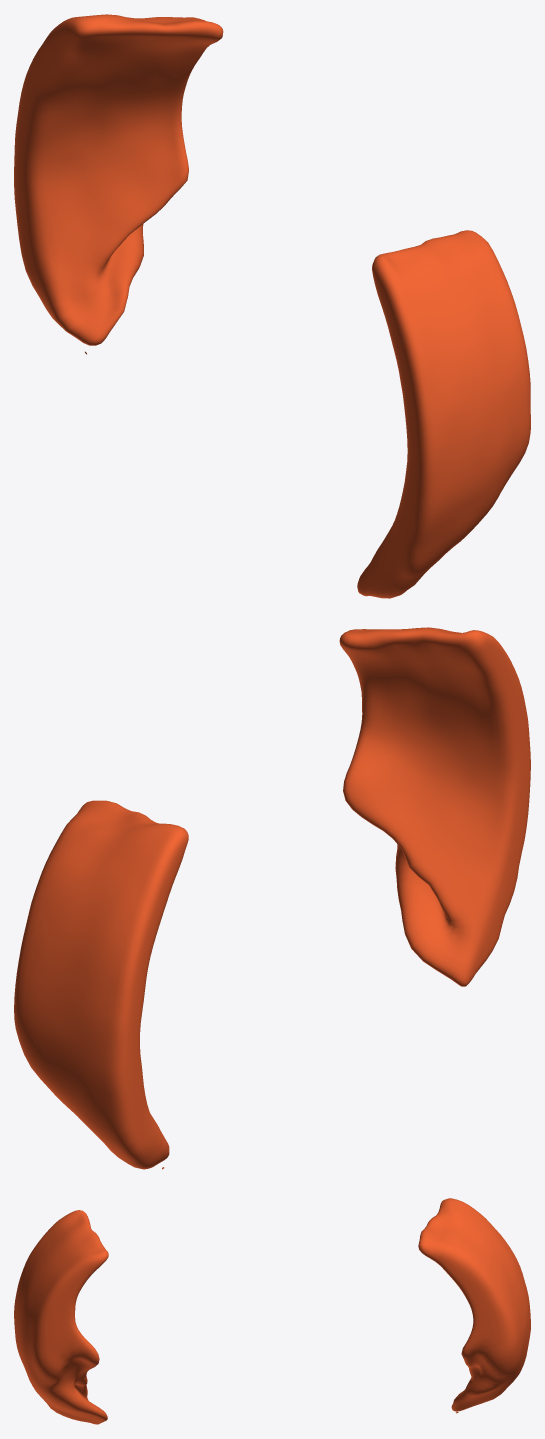
Rendered from LateralAbdomen.obj.
3 views of the same model, one above another, from view 1: azimuth 30°, elevation 25°; view 2: azimuth 150°, elevation 25°; view 3: azimuth 270°, elevation 25° (orthographic). The views are drawn at different scales.
Visible parts, largest first — view 1: LateralAbdomen; view 2: LateralAbdomen; view 3: LateralAbdomen.
Boxes of the visible parts, bbox=[...] form: LateralAbdomen: bbox=[14, 14, 530, 598]; LateralAbdomen: bbox=[14, 627, 530, 1169]; LateralAbdomen: bbox=[14, 1198, 530, 1424].
Size of the model in its own units: 2.21 by 5.98 by 12.34.
